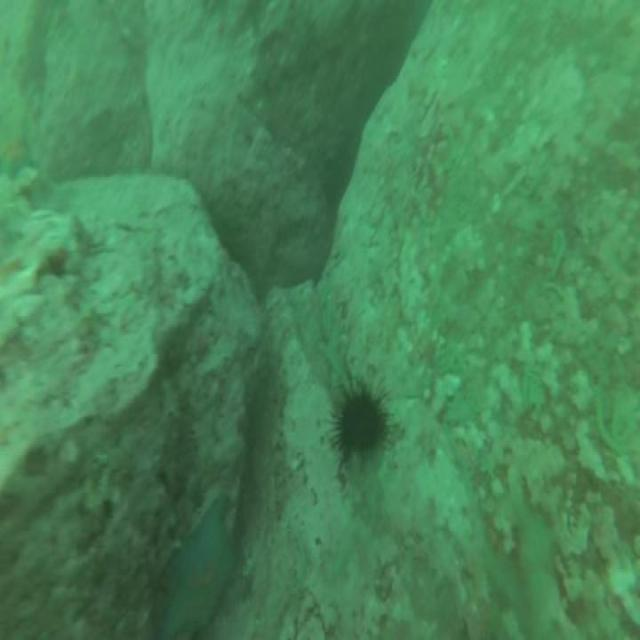echinus: (327, 372, 396, 478)
starfish: (167, 499, 237, 640)
